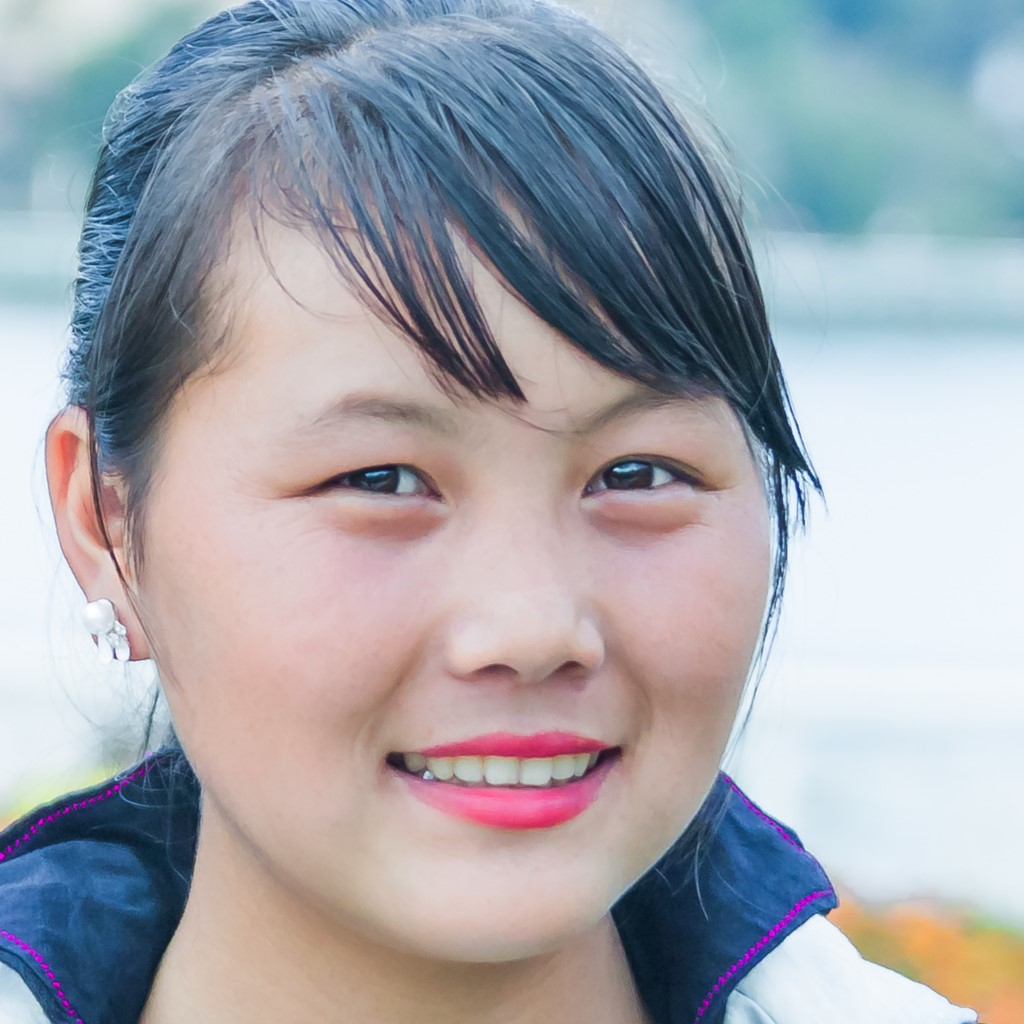sin_mascara: (100, 145, 741, 941)
